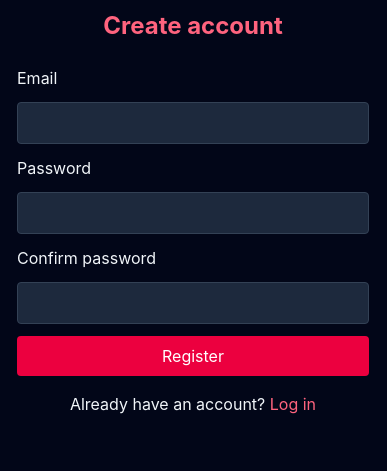
Test case: shows a friendly message when the email is already used
Type "a@b.com" into the field labelled "Email" at [193, 123], box 17,102 -> 369,144
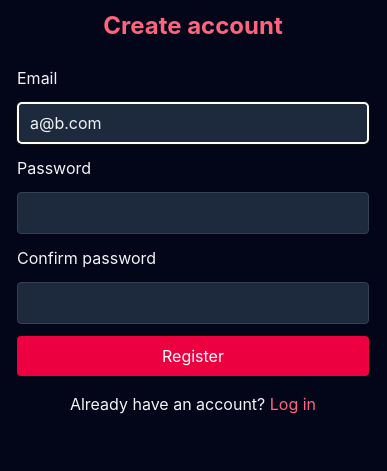
Type "123456" into the password field labelled "Password" at [193, 213], box 17,192 -> 369,234
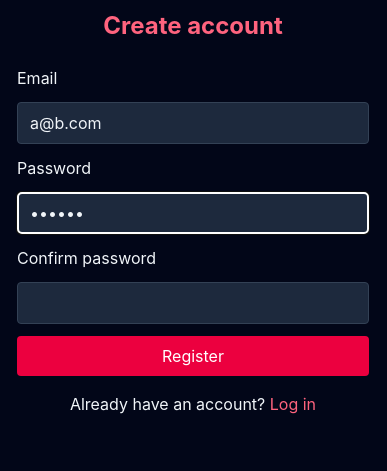
Type "123456" into the password field labelled "Confirm password" at [193, 303], box 17,282 -> 369,324
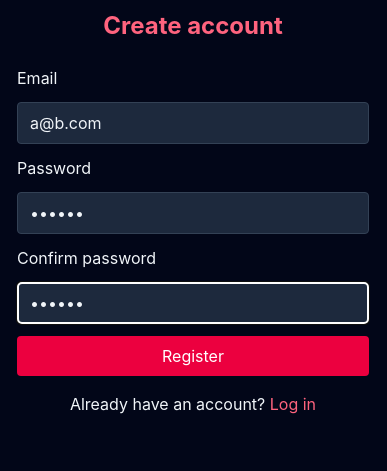
Click the button "Register" at [193, 356], box 17,336 -> 369,376
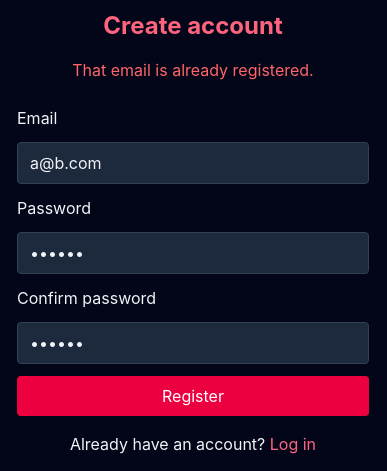
Check: the text "That email is already registered." is shown, box 72,60 -> 314,80
